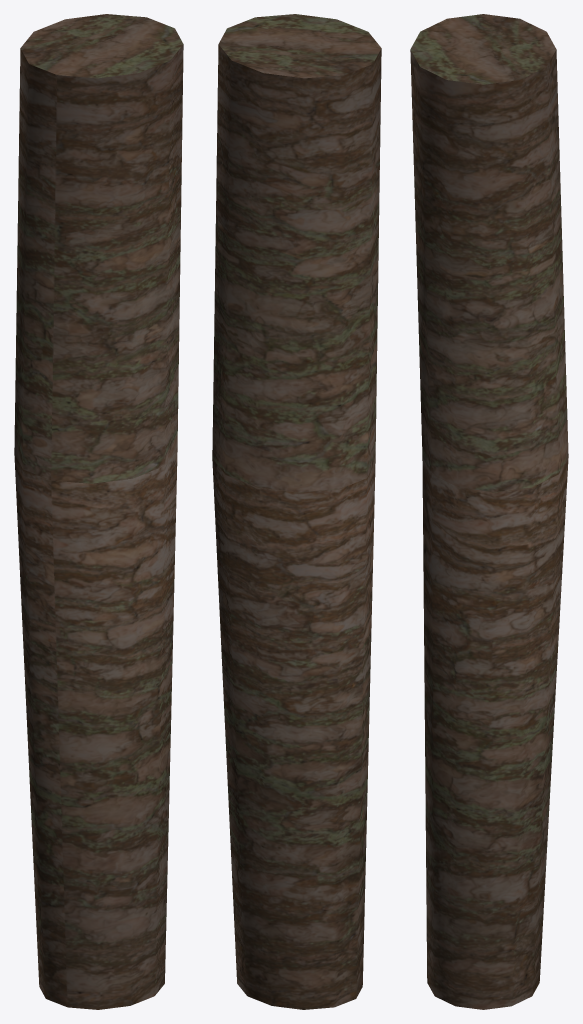
The model's file is Beams 4.fbx.
3 views of the same model, side by side, from view 1: azimuth 30°, elevation 25°; view 2: azimuth 150°, elevation 25°; view 3: azimuth 270°, elevation 25° (orthographic).
Parts seen in each view (by area): view 1: Beams 4; view 2: Beams 4; view 3: Beams 4.
Part boxes in pixels (box(x1,y1,x2,y2)): Beams 4: box(14, 14, 183, 1009); Beams 4: box(212, 14, 381, 1009); Beams 4: box(410, 14, 568, 1009).
Bounding box in the file's own units: 0.2228 × 1.37 × 0.2104.
